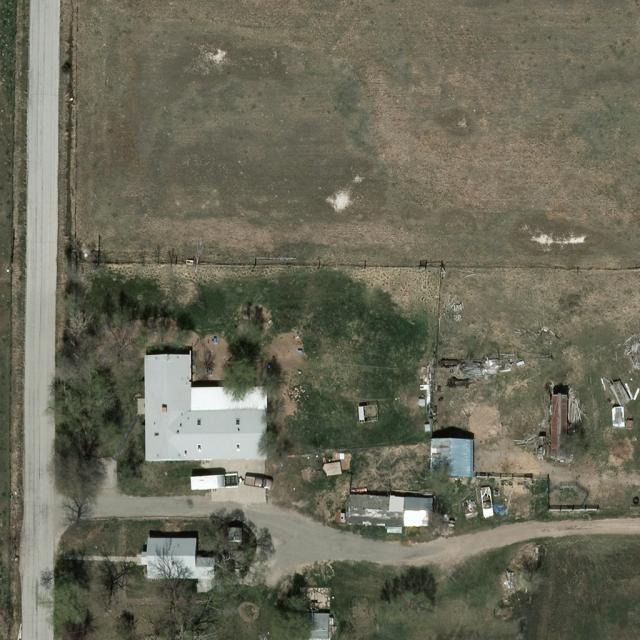vehicle: (244, 476, 274, 490), (480, 487, 494, 517)
